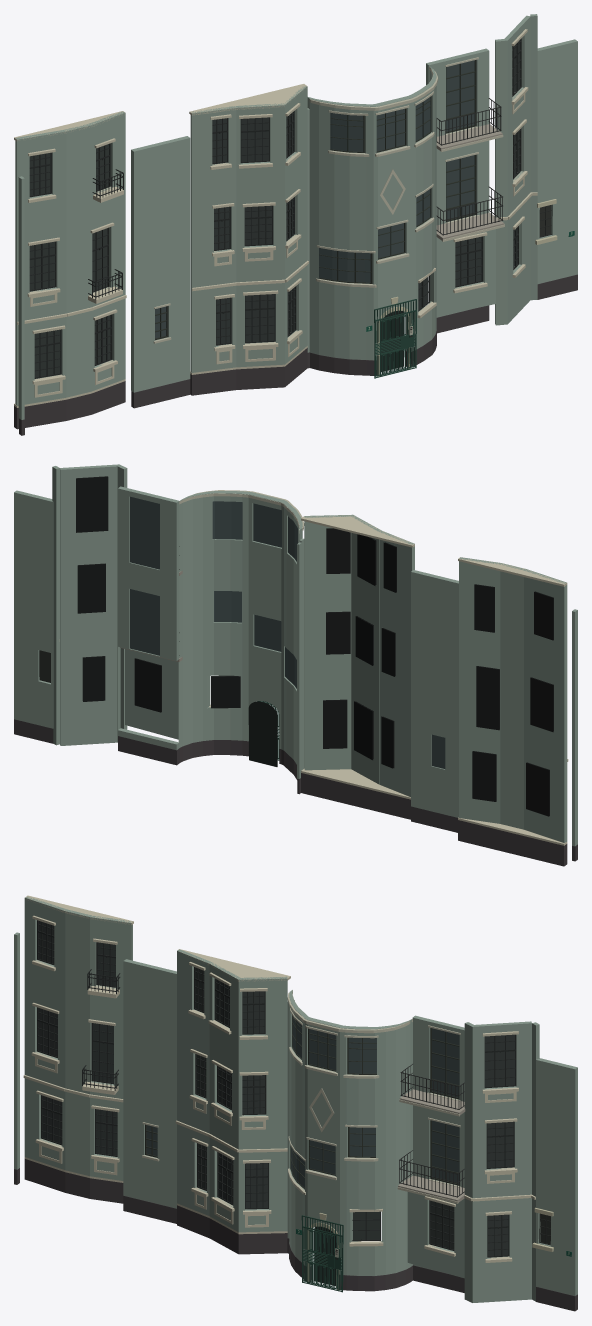
Rendered from full-source.glb.
The picture shows the model from 3 angles, top to bottom: view 1: azimuth 30°, elevation 25°; view 2: azimuth 150°, elevation 25°; view 3: azimuth 330°, elevation 25°; orthographic projection. The views are drawn at different scales.
Parts seen in each view (by area): view 1: 延庆路2号浅绿住宅与弧形楼梯间; view 2: 延庆路2号浅绿住宅与弧形楼梯间; view 3: 延庆路2号浅绿住宅与弧形楼梯间.
Boxes of the visible parts, box(x1,y1,x2,y2) form: 延庆路2号浅绿住宅与弧形楼梯间: box(14, 14, 577, 435); 延庆路2号浅绿住宅与弧形楼梯间: box(14, 464, 577, 866); 延庆路2号浅绿住宅与弧形楼梯间: box(14, 895, 577, 1311).
Size of the model in its own units: 20.88 by 10.28 by 2.74.
